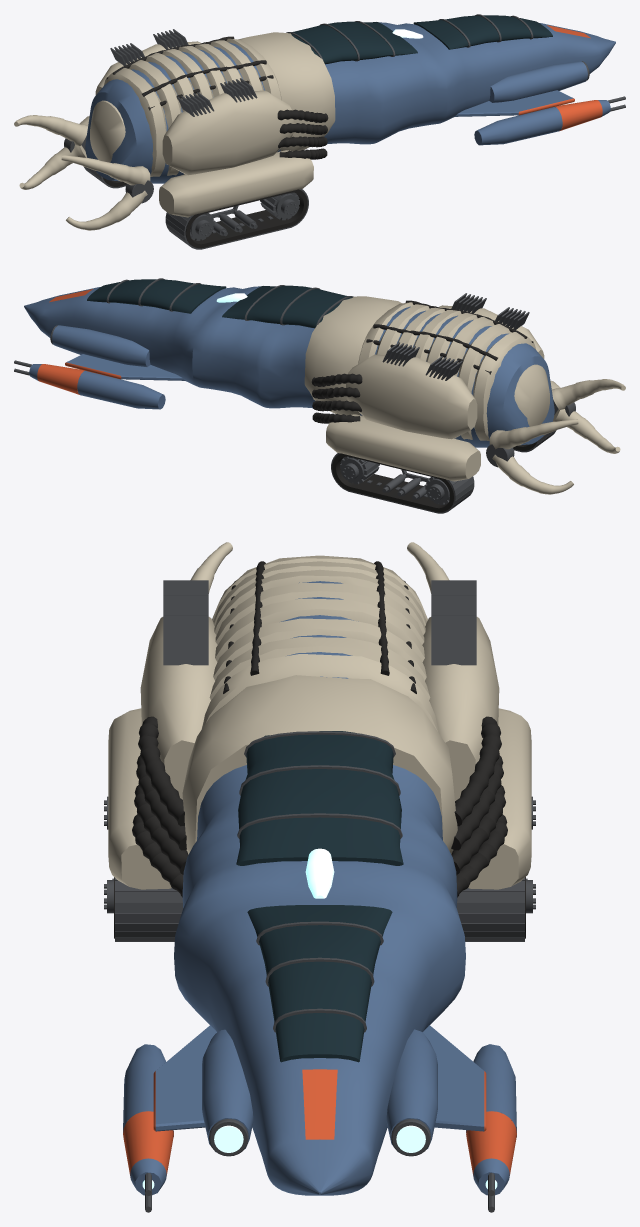
Rendered from helix_blueprint_LOD1.glb.
3 renders of one model, top to bottom at view 1: azimuth 30°, elevation 25°; view 2: azimuth 150°, elevation 25°; view 3: azimuth 270°, elevation 25°, orthographic. The views are drawn at different scales.
Visible parts, largest first — view 1: Body_Hull.001, Body_Shoulder_-1.001, Body_Fender_-1.001, Body_Collar.001, Glass_CanopyAft.001, Glass_CanopyFwd.001, Detail_Hardware, Body_Nacelle_-1.001, Body_Pod_-1.001, Prop_Track_Belt_-1.001, Body_Plate_0.001, Body_Maw.001 (+23 smaller); view 2: Body_Hull.001, Body_Shoulder_+1.001, Body_Fender_+1.001, Body_Collar.001, Glass_CanopyAft.001, Glass_CanopyFwd.001, Detail_Hardware, Body_Nacelle_+1.001, Body_Pod_+1.001, Prop_Track_Belt_+1.001, Body_Plate_0.001, Body_Maw.001 (+23 smaller); view 3: Body_Hull.001, Glass_CanopyAft.001, Body_Collar.001, Glass_CanopyFwd.001, Detail_Hardware, Body_Shoulder_+1.001, Body_Shoulder_-1.001, Body_Fender_+1.001, Body_Fender_-1.001, Body_Plate_7.001, Body_Wing_+1.001, Body_Wing_-1.001 (+26 smaller).
Part boxes in pixels (x1,y1,x2,y2): Body_Hull.001: [85, 22, 615, 183]; Body_Shoulder_-1.001: [162, 90, 293, 175]; Body_Fender_-1.001: [159, 150, 313, 217]; Body_Collar.001: [238, 32, 335, 151]; Glass_CanopyAft.001: [288, 21, 417, 64]; Glass_CanopyFwd.001: [413, 15, 552, 49]; Detail_Hardware: [64, 29, 625, 203]; Body_Nacelle_-1.001: [489, 61, 587, 102]; Body_Pod_-1.001: [474, 100, 610, 145]; Prop_Track_Belt_-1.001: [185, 189, 307, 248]; Body_Plate_0.001: [104, 68, 166, 176]; Body_Maw.001: [90, 100, 125, 162]; Body_Hull.001: [24, 286, 554, 447]; Body_Shoulder_+1.001: [346, 354, 477, 439]; Body_Fender_+1.001: [326, 414, 480, 481]; Body_Collar.001: [304, 296, 401, 415]; Glass_CanopyAft.001: [222, 285, 352, 328]; Glass_CanopyFwd.001: [87, 279, 226, 313]; Detail_Hardware: [14, 293, 575, 467]; Body_Nacelle_+1.001: [52, 325, 150, 366]; Body_Pod_+1.001: [29, 364, 165, 409]; Prop_Track_Belt_+1.001: [332, 453, 454, 512]; Body_Plate_0.001: [473, 332, 535, 440]; Body_Maw.001: [514, 364, 549, 426]; Body_Hull.001: [174, 581, 465, 1195]; Glass_CanopyAft.001: [236, 731, 403, 865]; Body_Collar.001: [182, 675, 457, 851]; Glass_CanopyFwd.001: [247, 905, 392, 1062]; Detail_Hardware: [145, 580, 494, 1212]; Body_Shoulder_+1.001: [422, 617, 499, 800]; Body_Shoulder_-1.001: [140, 617, 217, 799]; Body_Fender_+1.001: [450, 708, 531, 889]; Body_Fender_-1.001: [108, 708, 189, 889]; Body_Plate_7.001: [202, 654, 438, 732]; Body_Wing_+1.001: [423, 1025, 484, 1131]; Body_Wing_-1.001: [155, 1025, 216, 1131].
Bounding box in the file's own units: 4.98 × 1.22 × 1.61.
